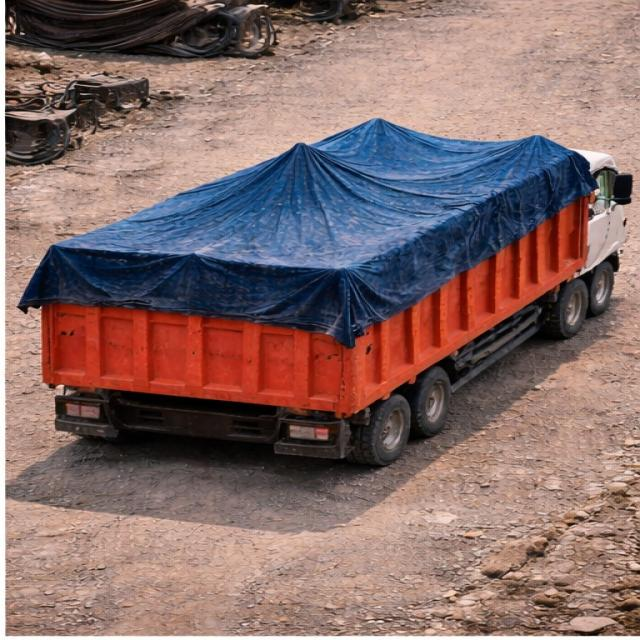trailer: (45, 119, 600, 285)
truck: (27, 98, 632, 451)
